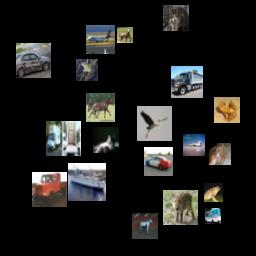airplane: (86, 25, 115, 54), (183, 134, 205, 156)
automobile: (16, 43, 51, 78), (144, 147, 173, 176)
bird: (137, 106, 172, 141)
cat: (93, 127, 119, 153), (163, 5, 189, 31)
deer: (163, 190, 198, 225)
dog: (209, 143, 231, 165)
frog: (214, 97, 240, 123), (76, 59, 98, 81), (204, 183, 223, 202)
ship: (68, 163, 106, 201)
truck: (32, 172, 67, 207), (46, 121, 81, 156), (171, 66, 203, 98), (205, 208, 221, 224)
